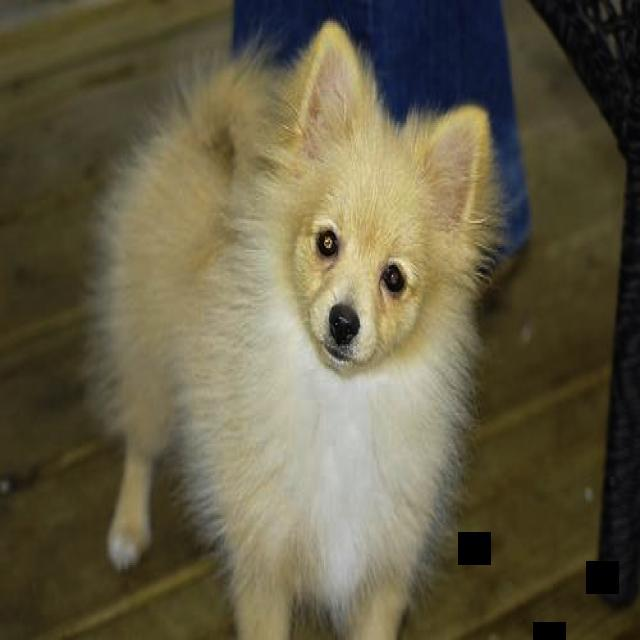puppy-dog: (77, 14, 506, 640)
